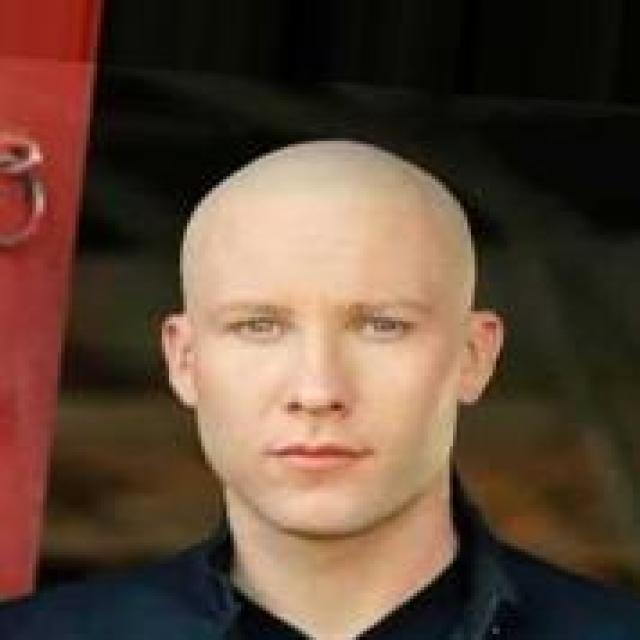bareface: (173, 155, 469, 534)
